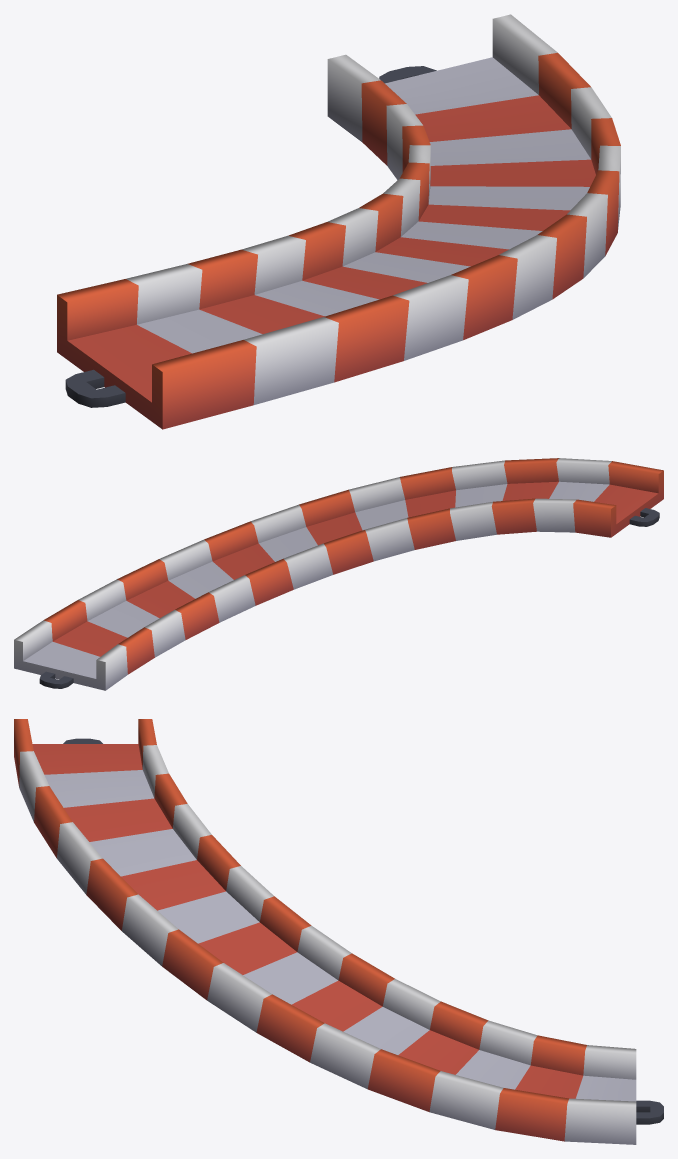
Rendered from track-striped-narrow-corner-large-ramp.glb.
3 views of the same model, one above another, from view 1: azimuth 30°, elevation 25°; view 2: azimuth 150°, elevation 25°; view 3: azimuth 270°, elevation 25° (orthographic). The views are drawn at different scales.
Visible parts, largest first — view 1: track-striped-narrow-corner-large-ramp; view 2: track-striped-narrow-corner-large-ramp; view 3: track-striped-narrow-corner-large-ramp.
Boxes of the visible parts, left/top/right/bottom form: track-striped-narrow-corner-large-ramp: left=57, top=14, right=620, bottom=429; track-striped-narrow-corner-large-ramp: left=14, top=458, right=663, bottom=690; track-striped-narrow-corner-large-ramp: left=14, top=719, right=663, bottom=1144.
Size of the model in its own units: 4.7 by 1.3 by 4.7.
